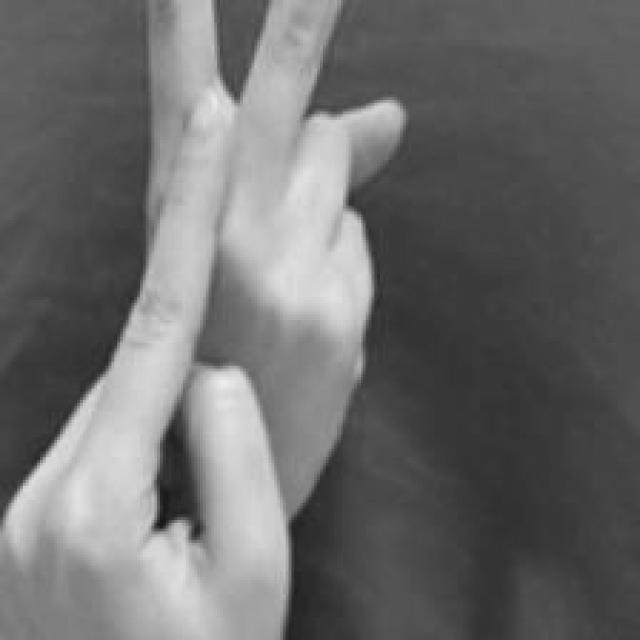Y: (0, 0, 408, 640)
